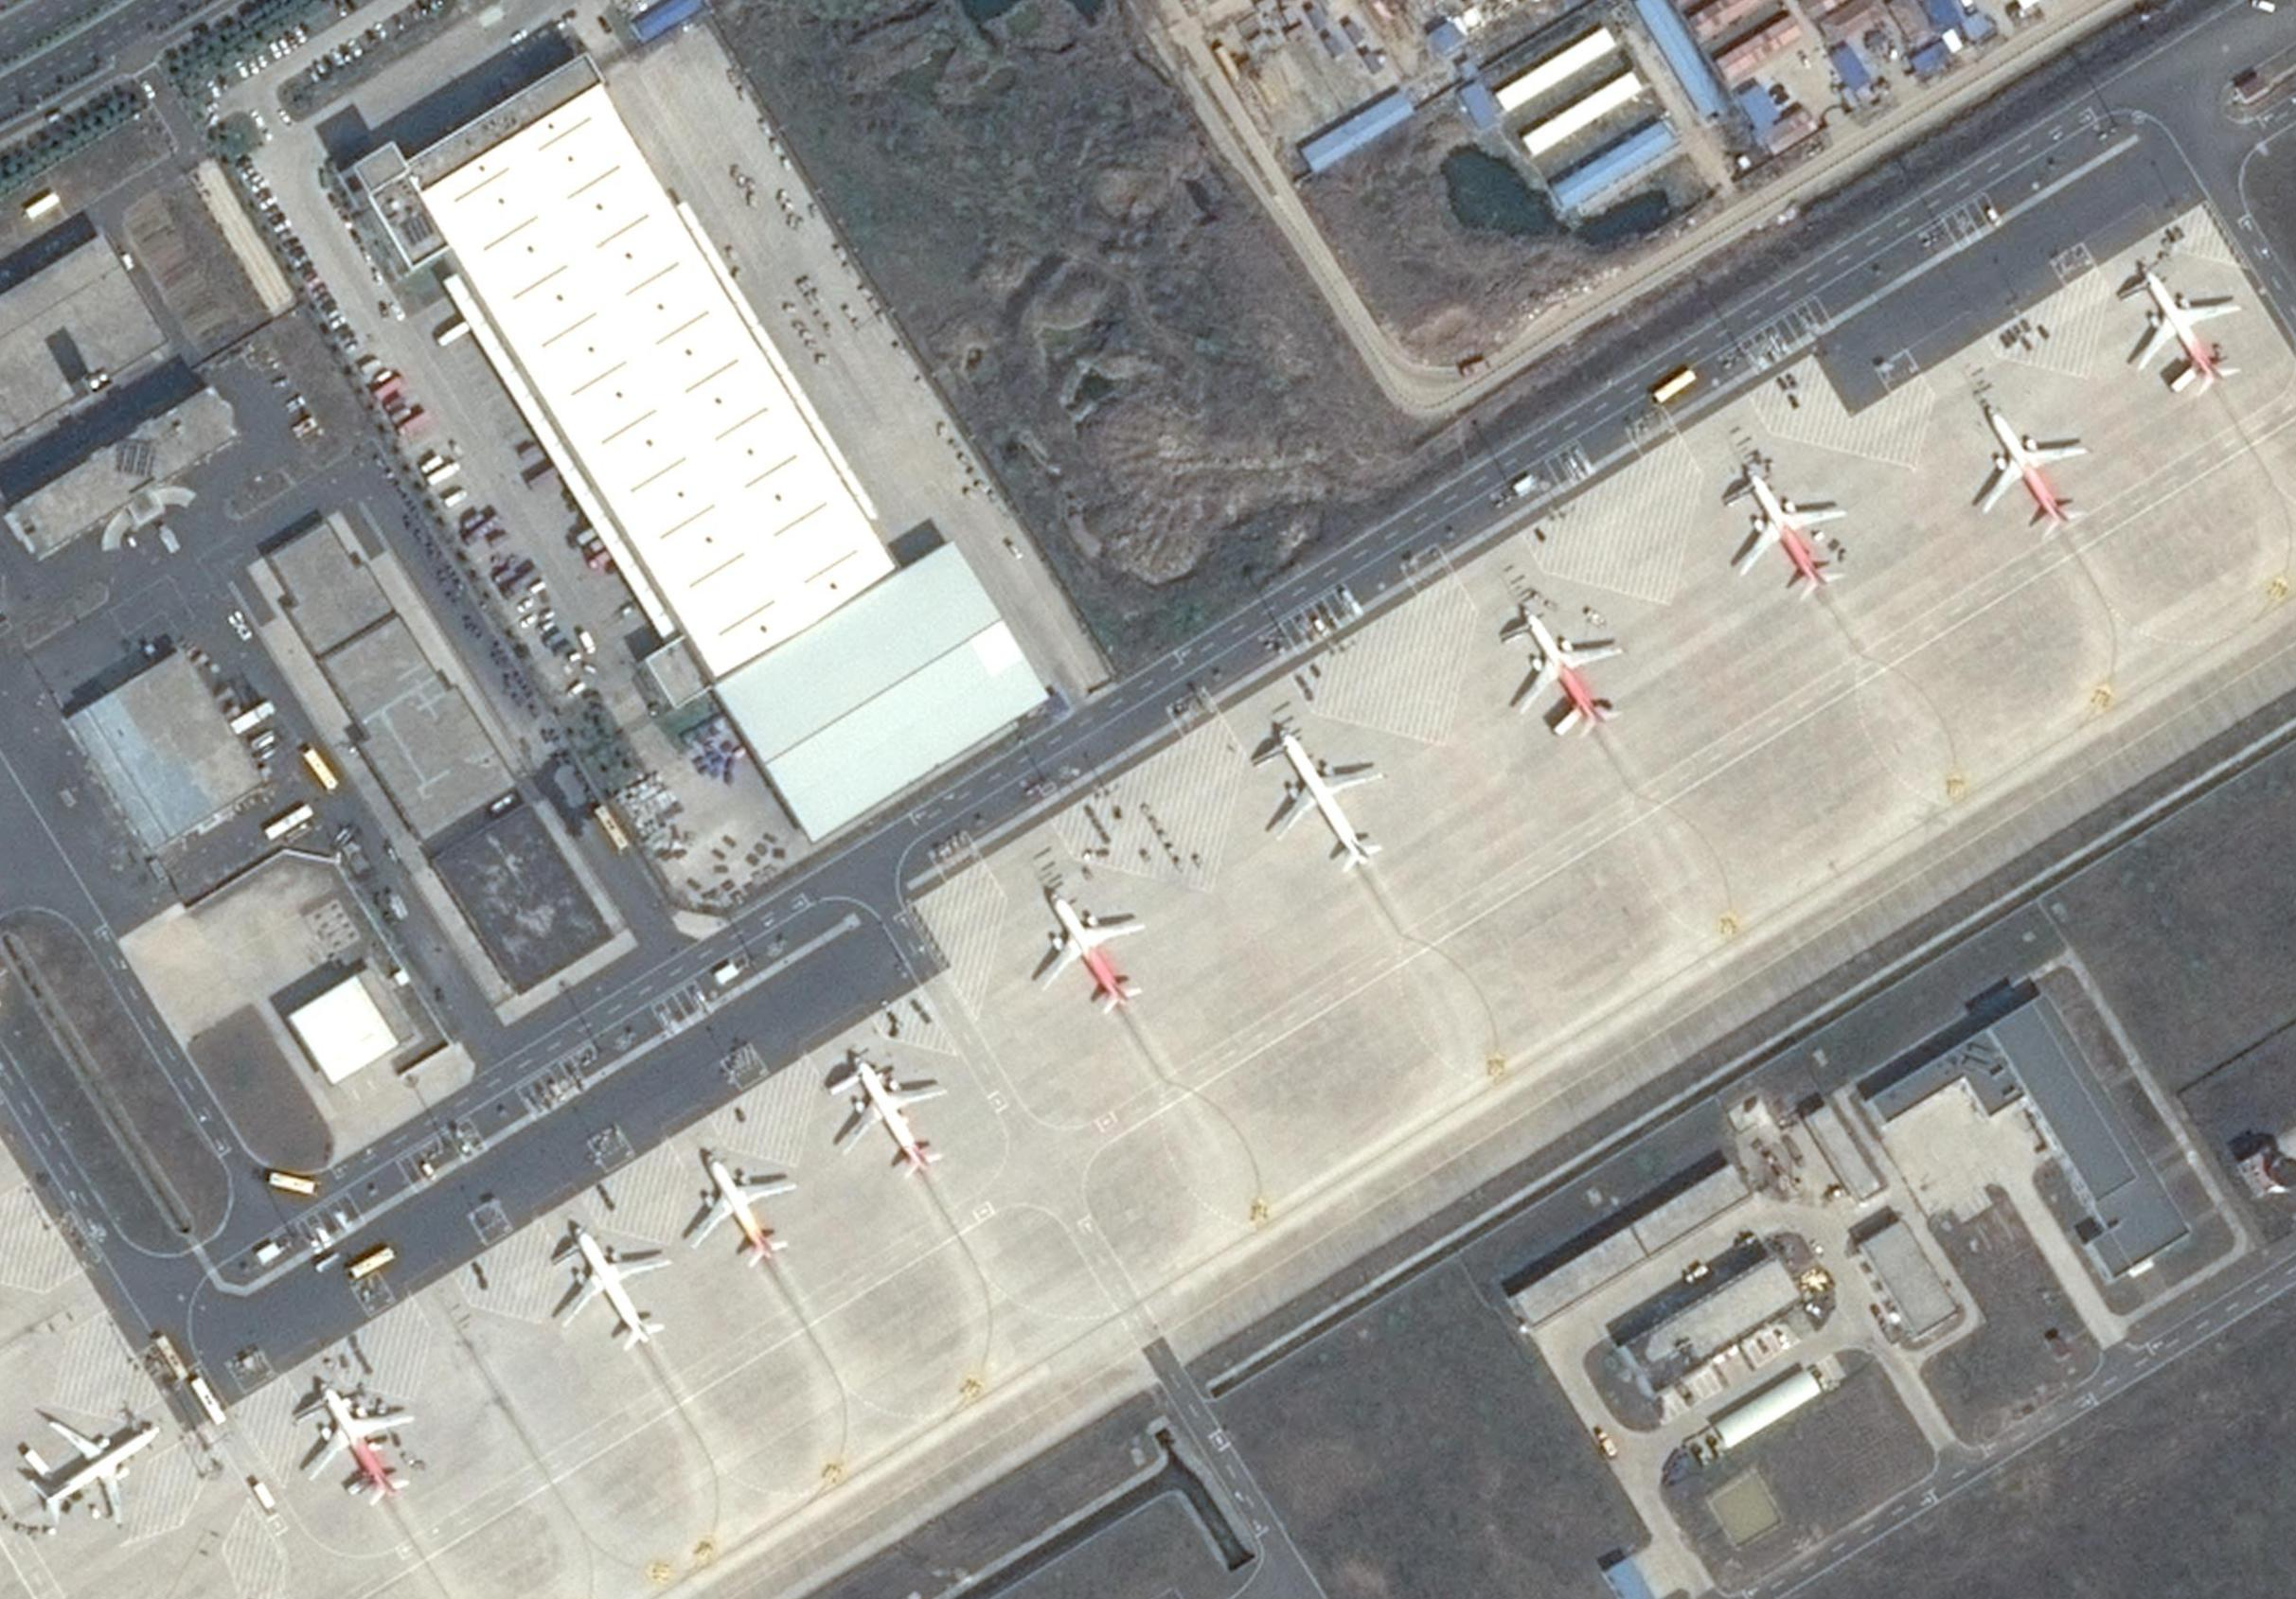plane: (1230, 701, 1417, 898), (7, 1372, 192, 1561), (1933, 377, 2120, 560), (520, 1196, 703, 1379), (1473, 577, 1652, 759), (1699, 443, 1876, 624), (2094, 239, 2268, 418), (998, 865, 1176, 1038), (272, 1355, 443, 1529), (656, 1118, 822, 1292), (804, 1029, 972, 1200)
